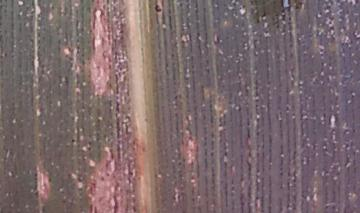tarspot: (152, 1, 164, 17)
